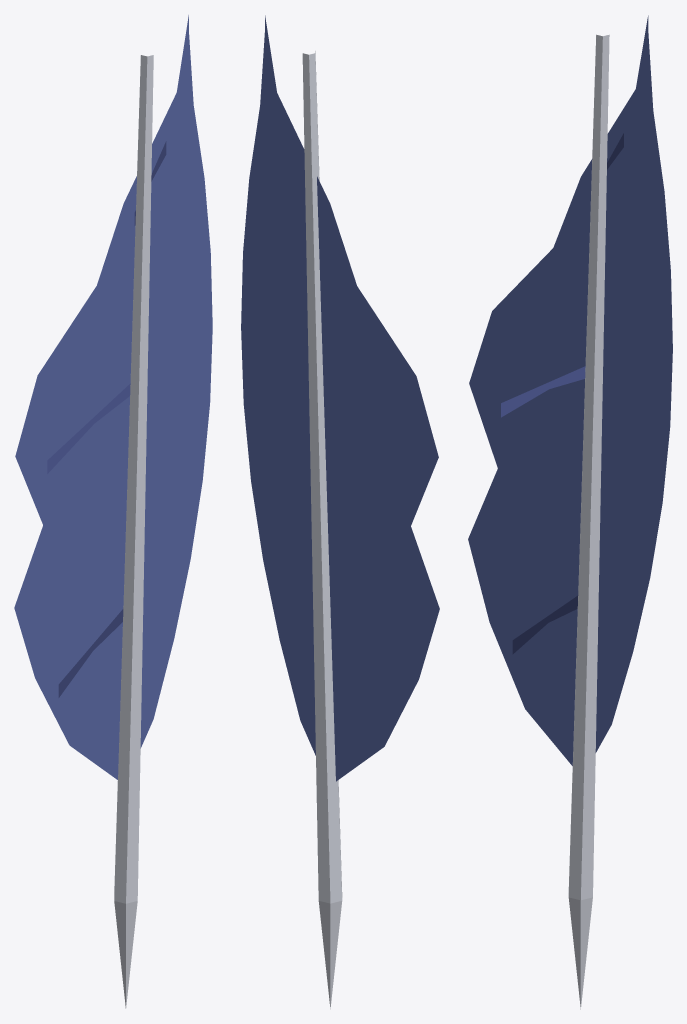
File: quill_luna.glb
3 renders of one model, left to right at view 1: azimuth 30°, elevation 25°; view 2: azimuth 150°, elevation 25°; view 3: azimuth 330°, elevation 25°, orthographic. The views are drawn at different scales.
Parts seen in each view (by area): view 1: luna_quill; view 2: luna_quill; view 3: luna_quill.
Part boxes in pixels (box(x1,y1,x2,y2)): luna_quill: box(14, 15, 212, 1008); luna_quill: box(241, 15, 439, 1009); luna_quill: box(468, 15, 672, 1009).
Size of the model in its own units: 0.0371 by 0.175 by 0.00381.
